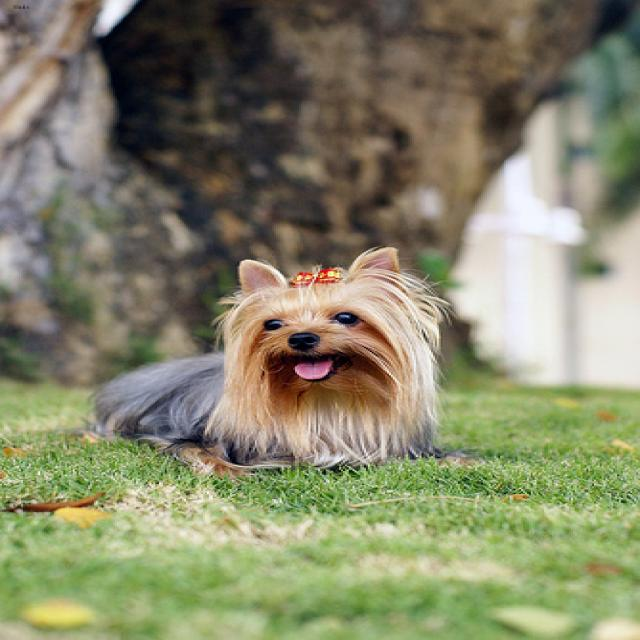dog-yorkshire_terrier: (69, 239, 502, 484)
